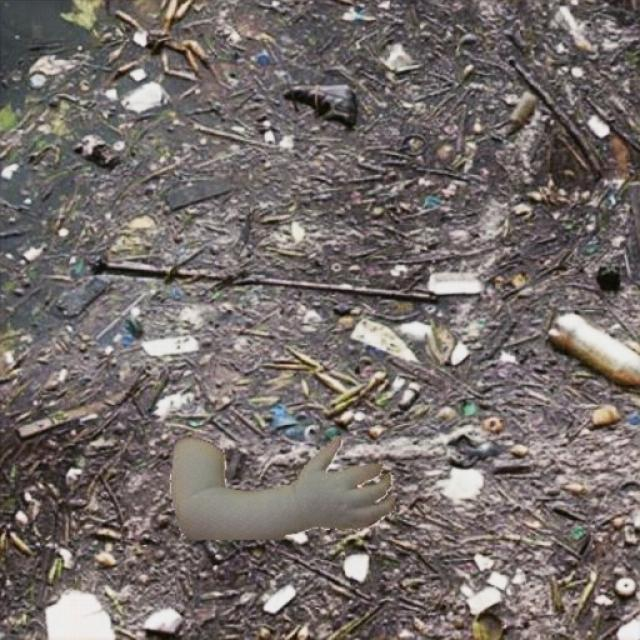Person in Rubble: (170, 436, 394, 539)
